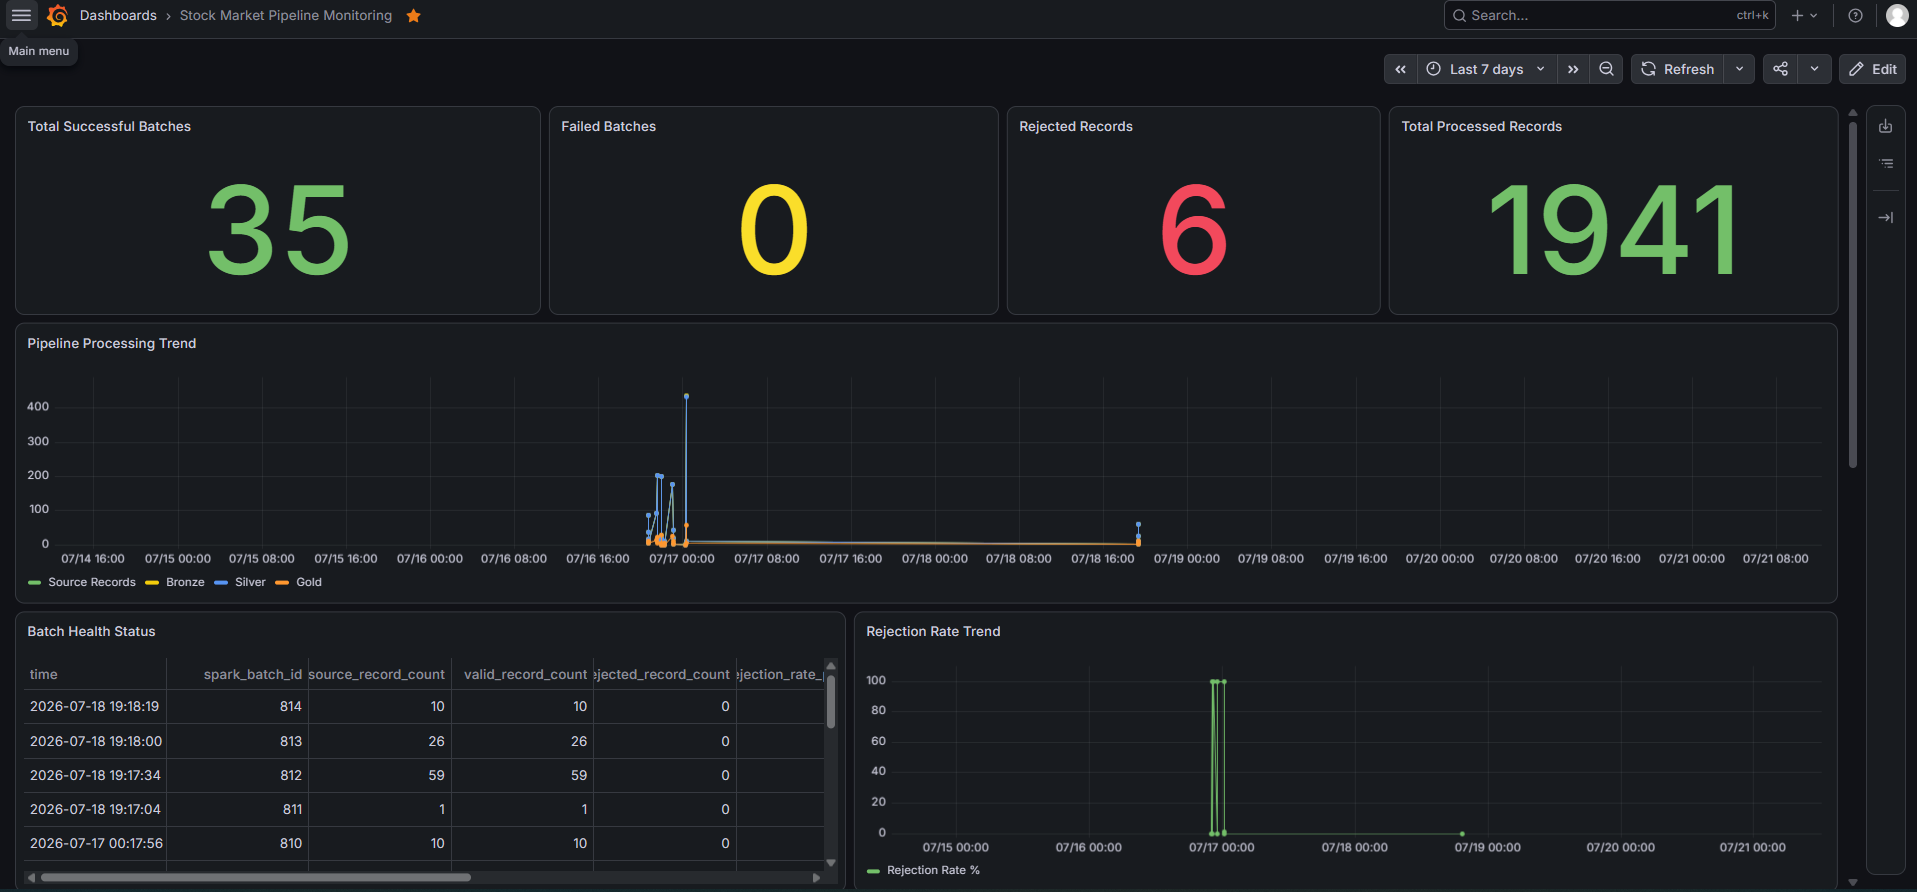

The dashboard page shown, as its layout file describes it:
{"tool":"powerbi","page":{"name":"Pipeline Operations Dashboard","canvas":[1280,720],"ordinal":2},"visuals":[{"type":"cardVisual","fields":{"Data":["monitoring pipeline_batch_audit.Successful Batches"]},"box":[0,0,322.2,131.7],"z":0},{"type":"cardVisual","fields":{"Data":["monitoring pipeline_batch_audit.Failed Batches"]},"box":[322.2,0,285.7,131.7],"z":1000},{"type":"cardVisual","fields":{"Data":["monitoring pipeline_batch_audit.Total Rejected Records"]},"box":[607.9,0,361.9,131.7],"z":2000},{"type":"cardVisual","fields":{"Data":["monitoring pipeline_batch_audit.Total Processed Records"]},"box":[969.8,0,309.5,131.7],"z":3000},{"type":"lineChart","title":"Pipeline Processing Trend","fields":{"Category":["monitoring pipeline_batch_audit.started_at"],"Y":["Sum(monitoring pipeline_batch_audit.bronze_inserted_count)","Sum(monitoring pipeline_batch_audit.silver_inserted_count)","Sum(monitoring pipeline_batch_audit.source_record_count)","Sum(monitoring pipeline_batch_audit.gold_affected_count)"]},"box":[0,152.4,593.7,339.7],"z":4000},{"type":"tableEx","title":"Recent Data Quality Results","fields":{"Values":["monitoring data_quality_results.spark_batch_id","monitoring data_quality_results.quality_status","Sum(monitoring data_quality_results.rejection_rate_percent)","Sum(monitoring data_quality_results.average_latency_ms)","Sum(monitoring data_quality_results.maximum_latency_ms)","monitoring data_quality_results.checked_at"]},"box":[0,503.2,1279.4,217.5],"z":5000},{"type":"tableEx","title":"Operational Alerts","fields":{"Values":["Sum(monitoring pipeline_alerts.batch_id)","monitoring pipeline_alerts.alert_type","monitoring pipeline_alerts.alert_status","monitoring pipeline_alerts.alert_message","monitoring pipeline_alerts.created_at","monitoring pipeline_alerts.severity"]},"box":[607.9,152.4,671.4,339.7],"z":6000}]}

Visuals, with their boxes on the page's 1280x720 design canvas (x1, y1, x2, y2). These are canvas units, not pixel positions in the 1917x892 screenshot, which may show the page scaled, cropped or inside an application window:
cardVisual - monitoring pipeline_batch_audit.Successful Batches: {"x1": 0, "y1": 0, "x2": 322, "y2": 132}
cardVisual - monitoring pipeline_batch_audit.Failed Batches: {"x1": 322, "y1": 0, "x2": 608, "y2": 132}
cardVisual - monitoring pipeline_batch_audit.Total Rejected Records: {"x1": 608, "y1": 0, "x2": 970, "y2": 132}
cardVisual - monitoring pipeline_batch_audit.Total Processed Records: {"x1": 970, "y1": 0, "x2": 1279, "y2": 132}
"Pipeline Processing Trend" lineChart: {"x1": 0, "y1": 152, "x2": 594, "y2": 492}
"Recent Data Quality Results" tableEx: {"x1": 0, "y1": 503, "x2": 1279, "y2": 721}
"Operational Alerts" tableEx: {"x1": 608, "y1": 152, "x2": 1279, "y2": 492}
